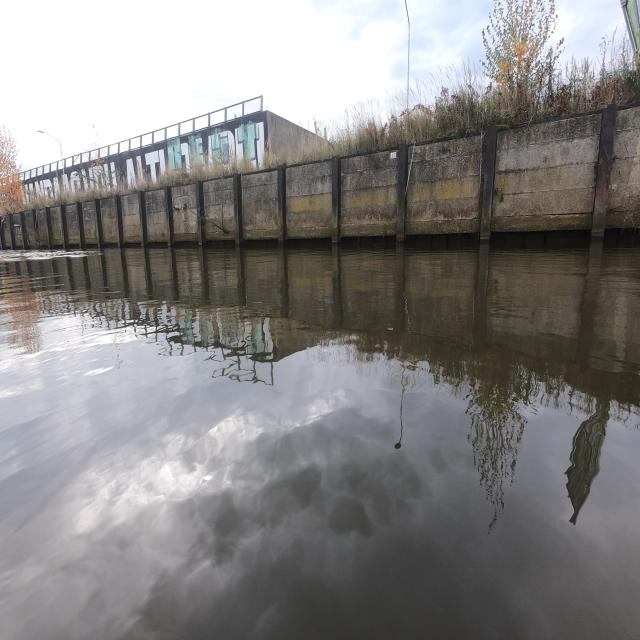sky: (6, 6, 480, 166), (550, 2, 616, 58)
wall: (6, 152, 374, 242), (492, 108, 638, 234)
water: (0, 244, 640, 640)
